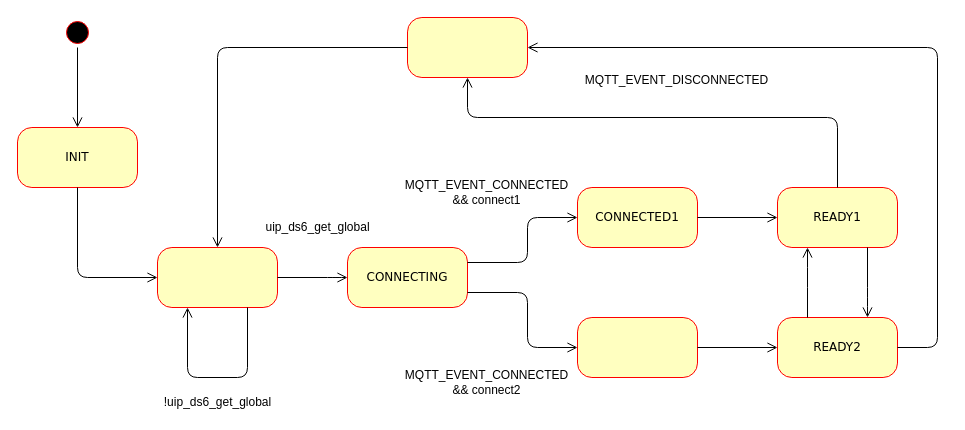
Image size: 965x430. Some labels were removed from this diagram. The centre of each missing label's shape, as x and y in pixels:
"CONNECTED2" belongs at pixel 637 347.
"DISCONNECTED" belongs at pixel 467 47.
"REGISTERED" belongs at pixel 217 277.
